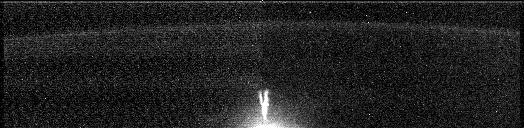positive: (255, 87, 275, 123)
